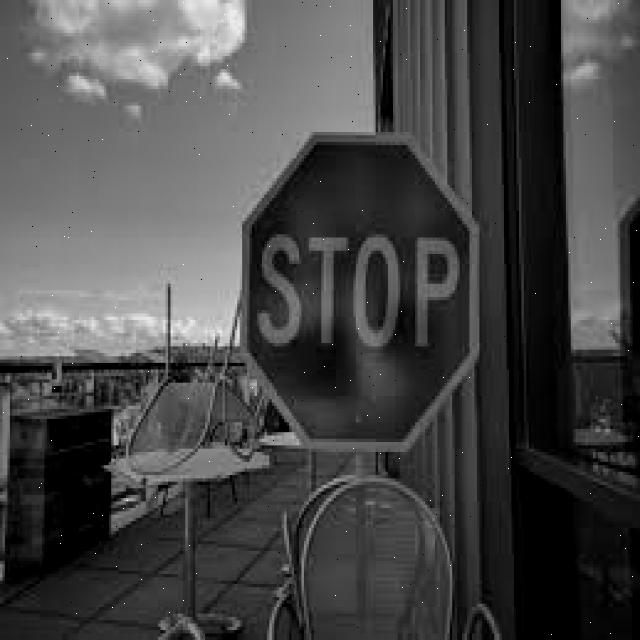stop sign: (241, 129, 480, 449)
